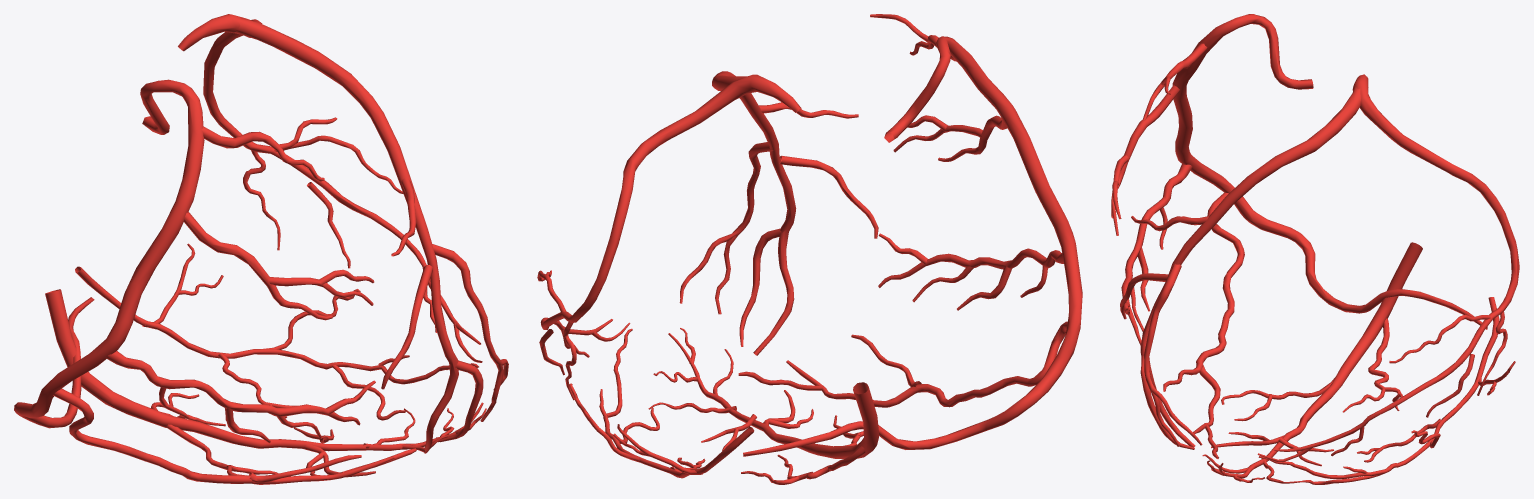
The model's file is redminor.gltf.
The picture shows the model from 3 angles, left to right: view 1: azimuth 30°, elevation 25°; view 2: azimuth 150°, elevation 25°; view 3: azimuth 270°, elevation 25°; orthographic projection. The views are drawn at different scales.
Visible parts, largest first — view 1: c1.078; view 2: c1.078; view 3: c1.078.
Part boxes in pixels (x1,y1,x2,y2): c1.078: (14, 14, 508, 484); c1.078: (537, 14, 1082, 484); c1.078: (1111, 14, 1519, 484).
Size of the model in its own units: 3.16 by 2.82 by 2.85.
